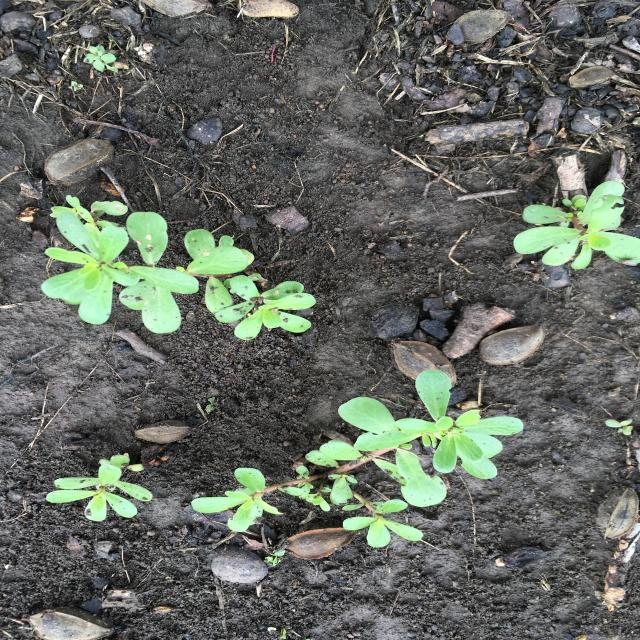Purslane: (191, 370, 524, 548), (42, 195, 255, 334), (513, 180, 640, 270), (46, 454, 152, 522), (215, 275, 316, 341)
